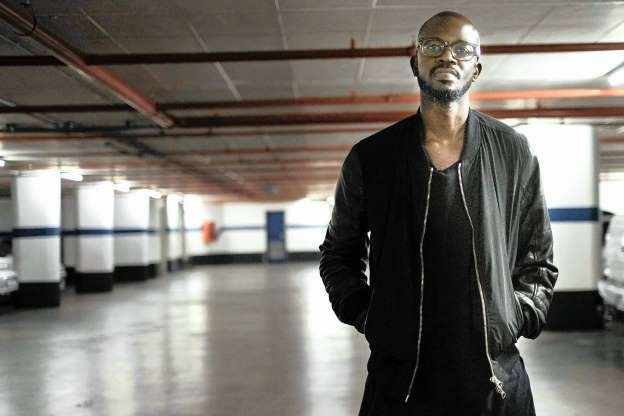face_no_mask: (413, 14, 481, 102)
